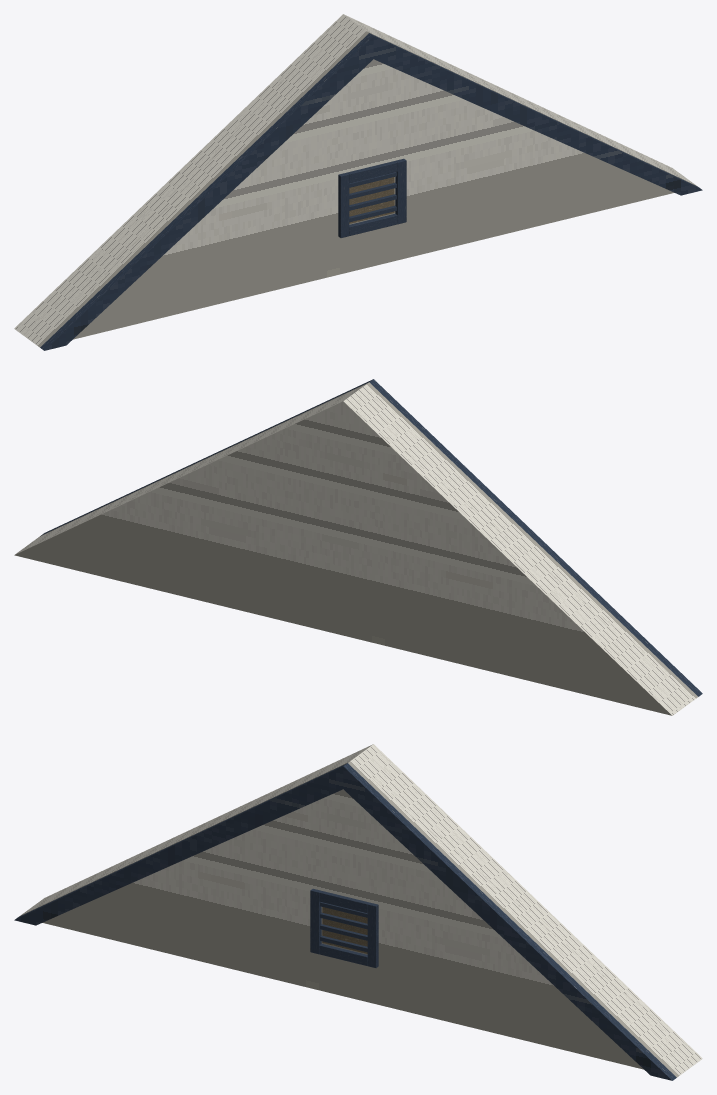
File: house_05_gable.glb
3 renders of one model, top to bottom at view 1: azimuth 30°, elevation 25°; view 2: azimuth 150°, elevation 25°; view 3: azimuth 330°, elevation 25°, orthographic.
Parts seen in each view (by area): view 1: house_05_gable; view 2: house_05_gable; view 3: house_05_gable.
Boxes of the visible parts, x1,y1,x2,y2 form: house_05_gable: [14, 14, 702, 350]; house_05_gable: [14, 379, 702, 715]; house_05_gable: [14, 744, 702, 1080].
Size of the model in its own units: 3 by 1.02 by 0.24.
Materials: 3 (3 with a texture image).
